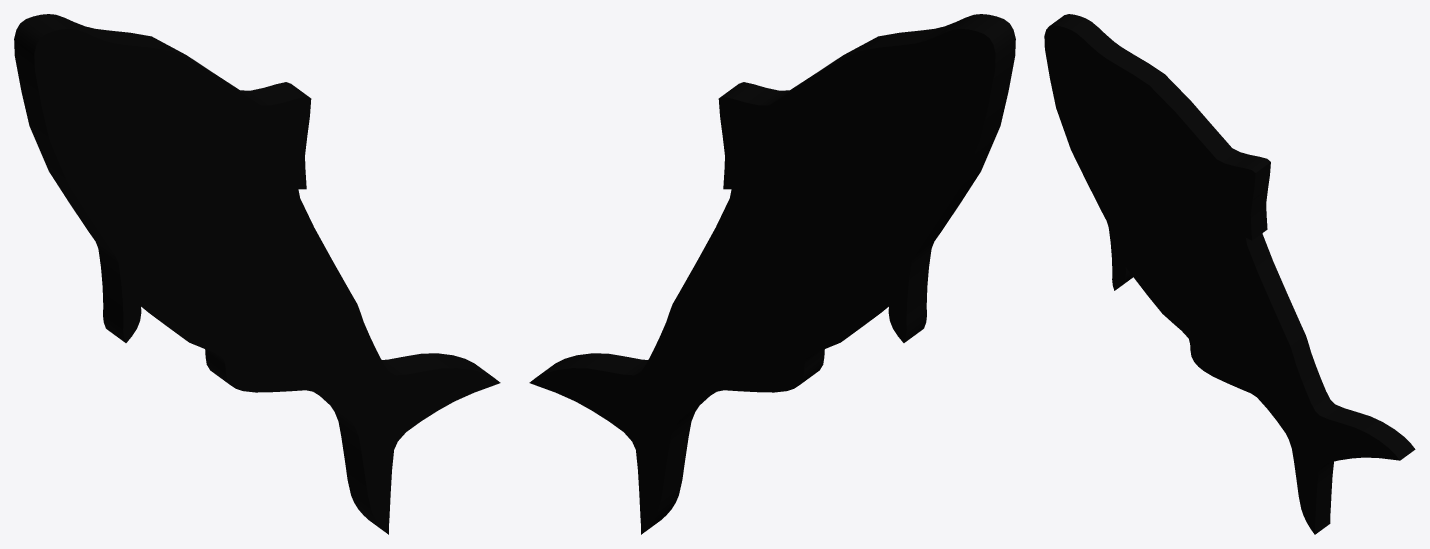
Rendered from Fish.fbx.
3 renders of one model, left to right at view 1: azimuth 30°, elevation 25°; view 2: azimuth 150°, elevation 25°; view 3: azimuth 330°, elevation 25°, orthographic. The views are drawn at different scales.
Visible parts, largest first — view 1: root; view 2: root; view 3: root.
Part boxes in pixels (x1,y1,x2,y2): root: (14,14,500,534); root: (529,14,1015,534); root: (1044,14,1415,534).
Size of the model in its own units: 0.3371 by 0.4043 by 0.0253.
1 material, 1 textured.
